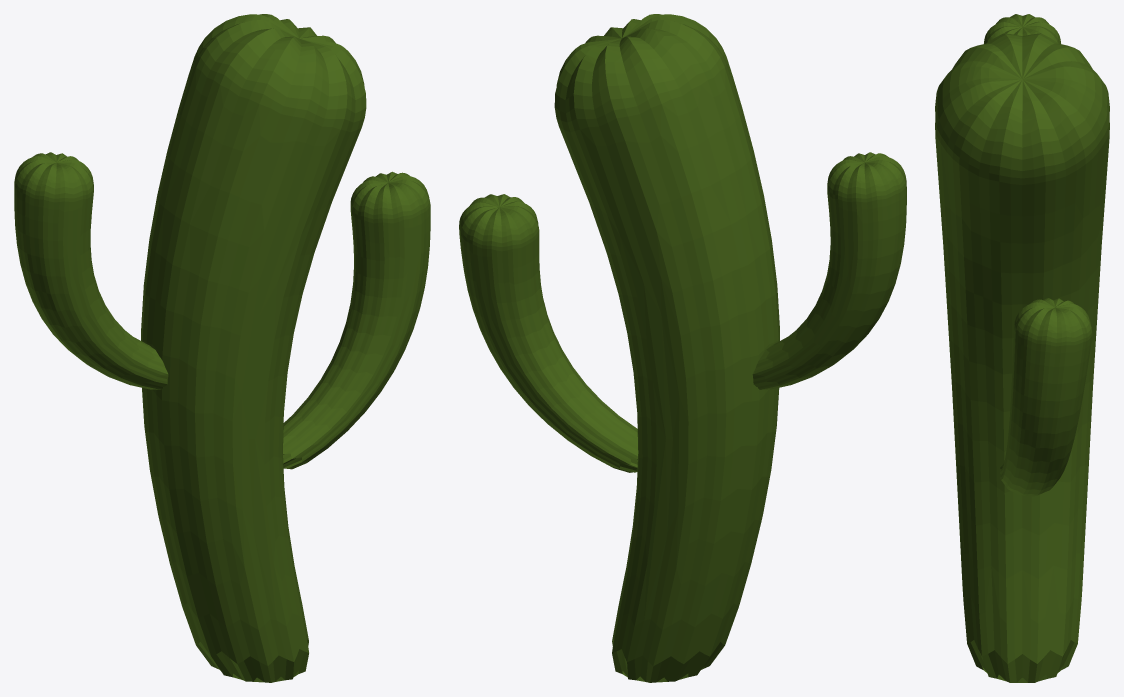
The model's file is cactus.fbx.
3 views of the same model, side by side, from view 1: azimuth 30°, elevation 25°; view 2: azimuth 150°, elevation 25°; view 3: azimuth 270°, elevation 25° (orthographic). The views are drawn at different scales.
Visible parts, largest first — view 1: Circle, Circle.002, Circle.001; view 2: Circle, Circle.002, Circle.001; view 3: Circle, Circle.002, Circle.001.
Part boxes in pixels (bbox=[...]): Circle: bbox=[141, 14, 366, 682]; Circle.002: bbox=[283, 171, 430, 469]; Circle.001: bbox=[14, 152, 168, 389]; Circle: bbox=[554, 14, 779, 682]; Circle.002: bbox=[459, 194, 638, 472]; Circle.001: bbox=[752, 152, 906, 389]; Circle: bbox=[935, 33, 1109, 682]; Circle.002: bbox=[1000, 298, 1092, 496]; Circle.001: bbox=[984, 14, 1060, 43].
Size of the model in its own units: 271 by 402 by 99.83.
